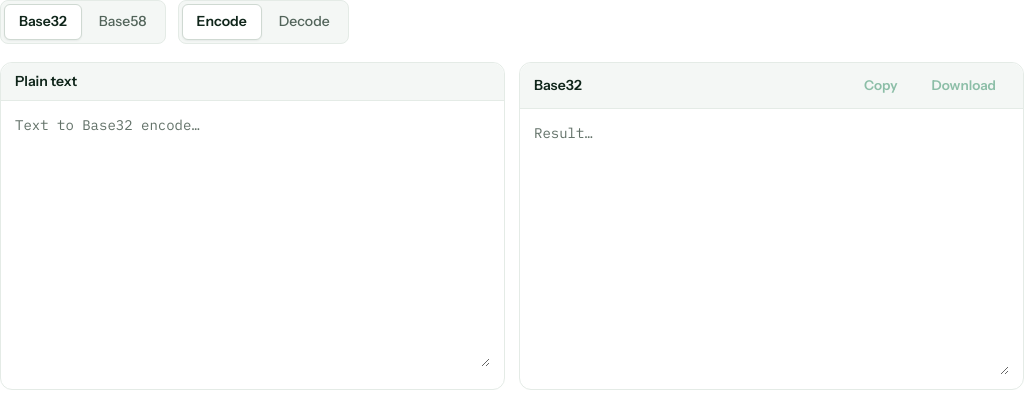
Scenario: Base58Base32 › Base32 (RFC 4648) › shows error on invalid Base32 characters in decode mode
Click the tab "Decode" at (304, 22), box [264, 4, 345, 40]
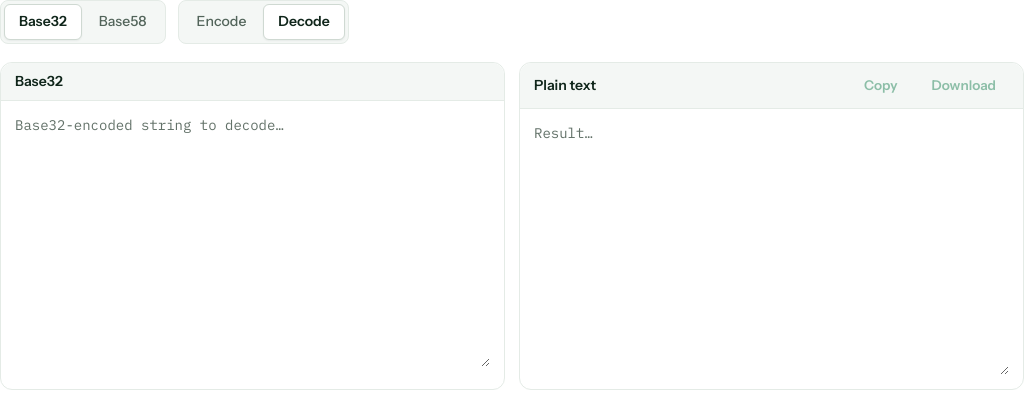
Type "!!!invalid!!!" into the text box with placeholder "Base32-encoded string to decode…" at (252, 241), box [15, 115, 490, 367]
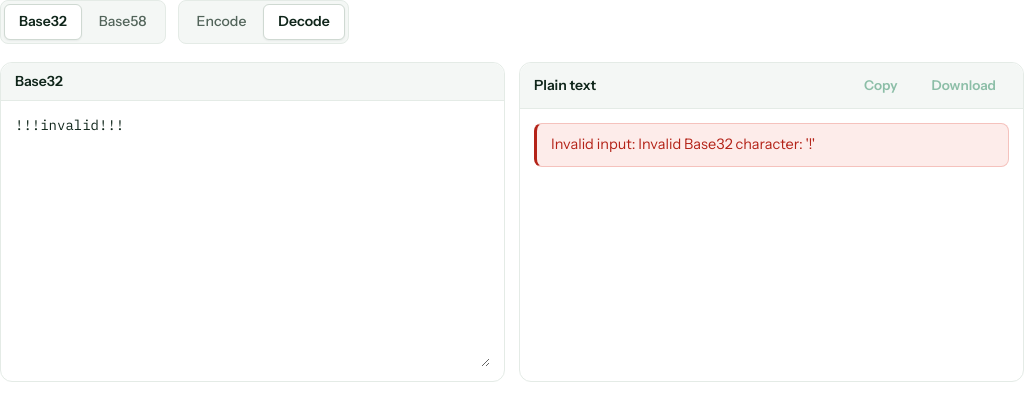
expect the text "Invalid input: Invalid Base32 character: '!'" is shown: met, box [534, 123, 1009, 167]
